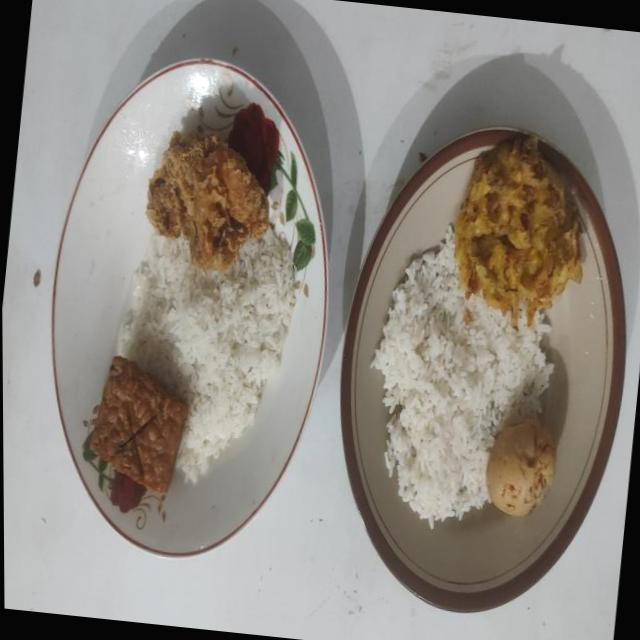nasi_putih: (370, 226, 554, 528), (117, 232, 296, 482)
tempe_goreng: (90, 356, 188, 492)
